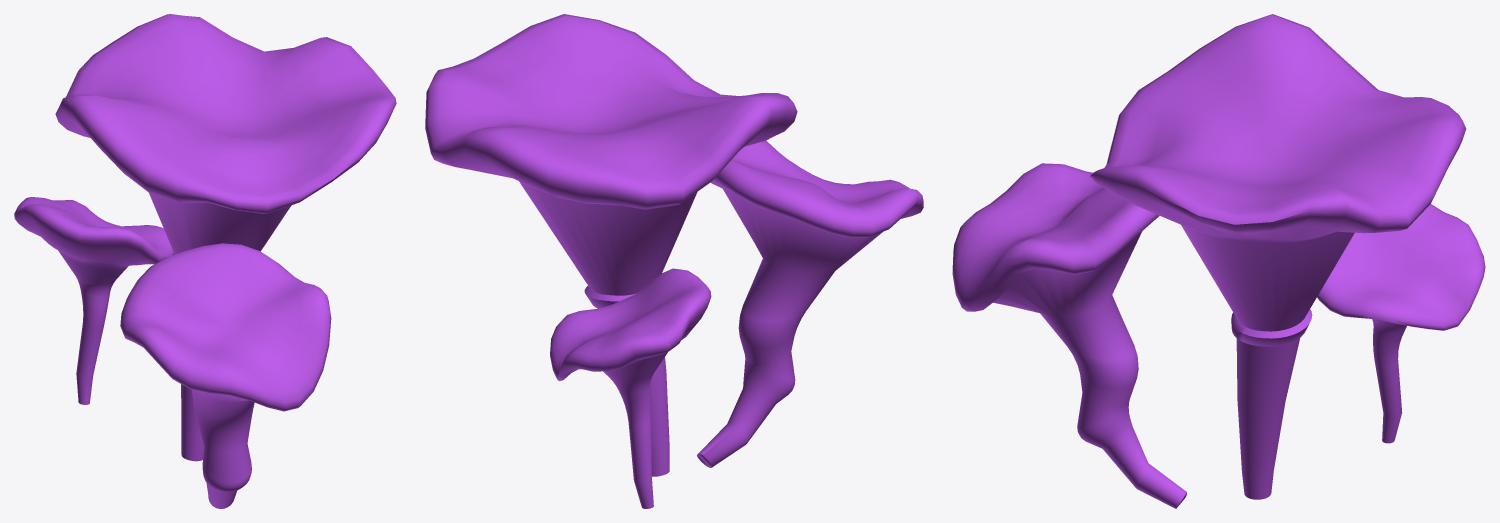
The model's file is Setas Marrones.fbx.
3 renders of one model, left to right at view 1: azimuth 30°, elevation 25°; view 2: azimuth 150°, elevation 25°; view 3: azimuth 270°, elevation 25°, orthographic. The views are drawn at different scales.
Parts seen in each view (by area): view 1: Sphere.001, Sphere.002, Sphere; view 2: Sphere.001, Sphere.002, Sphere; view 3: Sphere.001, Sphere.002, Sphere.
Part boxes in pixels (left/top/right/bottom): Sphere.001: left=55, top=14, right=396, bottom=461; Sphere.002: left=120, top=243, right=331, bottom=508; Sphere: left=14, top=197, right=174, bottom=404; Sphere.001: left=425, top=14, right=797, bottom=476; Sphere.002: left=697, top=140, right=923, bottom=467; Sphere: left=550, top=268, right=711, bottom=508; Sphere.001: left=1090, top=14, right=1466, bottom=499; Sphere.002: left=952, top=163, right=1186, bottom=508; Sphere: left=1317, top=204, right=1485, bottom=443.
Size of the model in its own units: 56.51 by 64.36 by 70.13.
